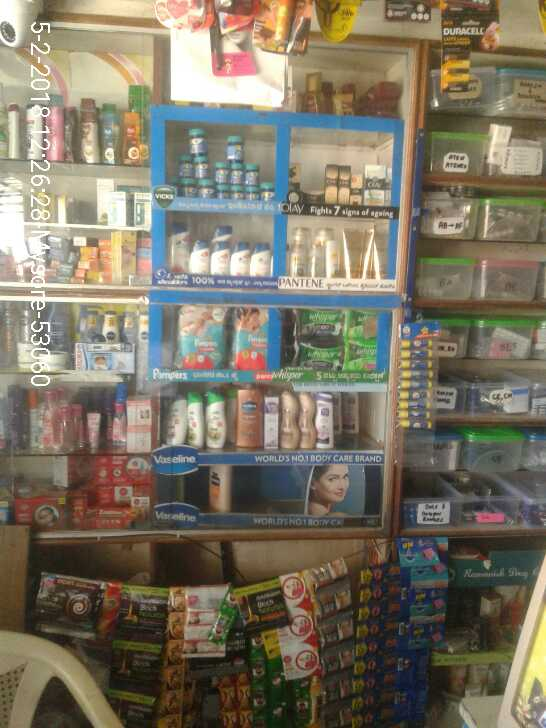beauty: (306, 225, 337, 277), (358, 229, 384, 277), (169, 221, 191, 274), (339, 224, 359, 276), (290, 221, 307, 279), (229, 235, 251, 276), (366, 163, 388, 202), (189, 236, 210, 275), (250, 239, 270, 276), (208, 238, 229, 273), (338, 160, 351, 205), (351, 172, 364, 209), (329, 164, 339, 208)
pharmacy: (291, 339, 345, 370), (294, 307, 343, 334), (342, 309, 379, 342), (185, 125, 213, 157), (345, 345, 377, 371), (227, 131, 246, 164), (176, 151, 195, 177), (177, 176, 200, 196), (193, 156, 211, 177), (228, 163, 244, 186), (241, 165, 260, 184), (197, 178, 215, 197), (216, 160, 230, 183), (261, 180, 276, 199), (246, 184, 260, 202), (215, 183, 230, 198), (231, 184, 244, 199)
